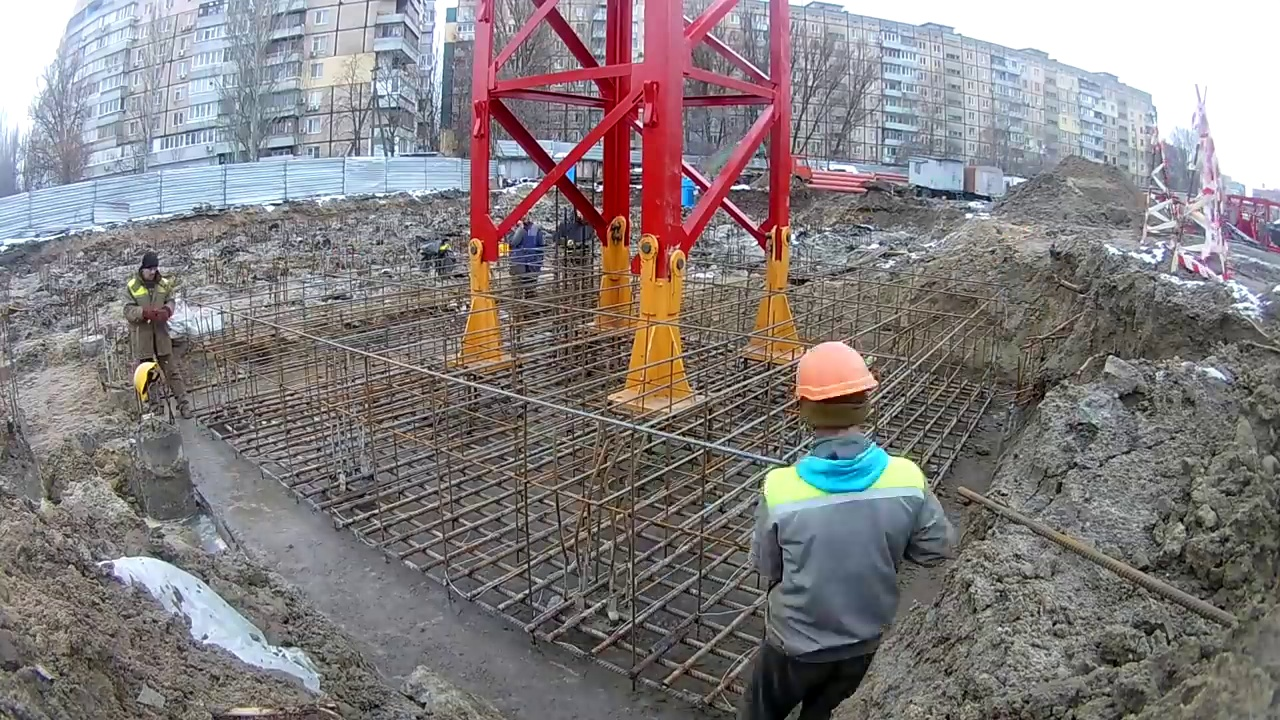helmet: (792, 348, 878, 404), (133, 360, 158, 403)
helmet-off: (138, 255, 164, 287)
helmet-on: (792, 344, 880, 430)
person: (746, 344, 957, 718), (119, 252, 195, 422), (505, 209, 546, 300)
